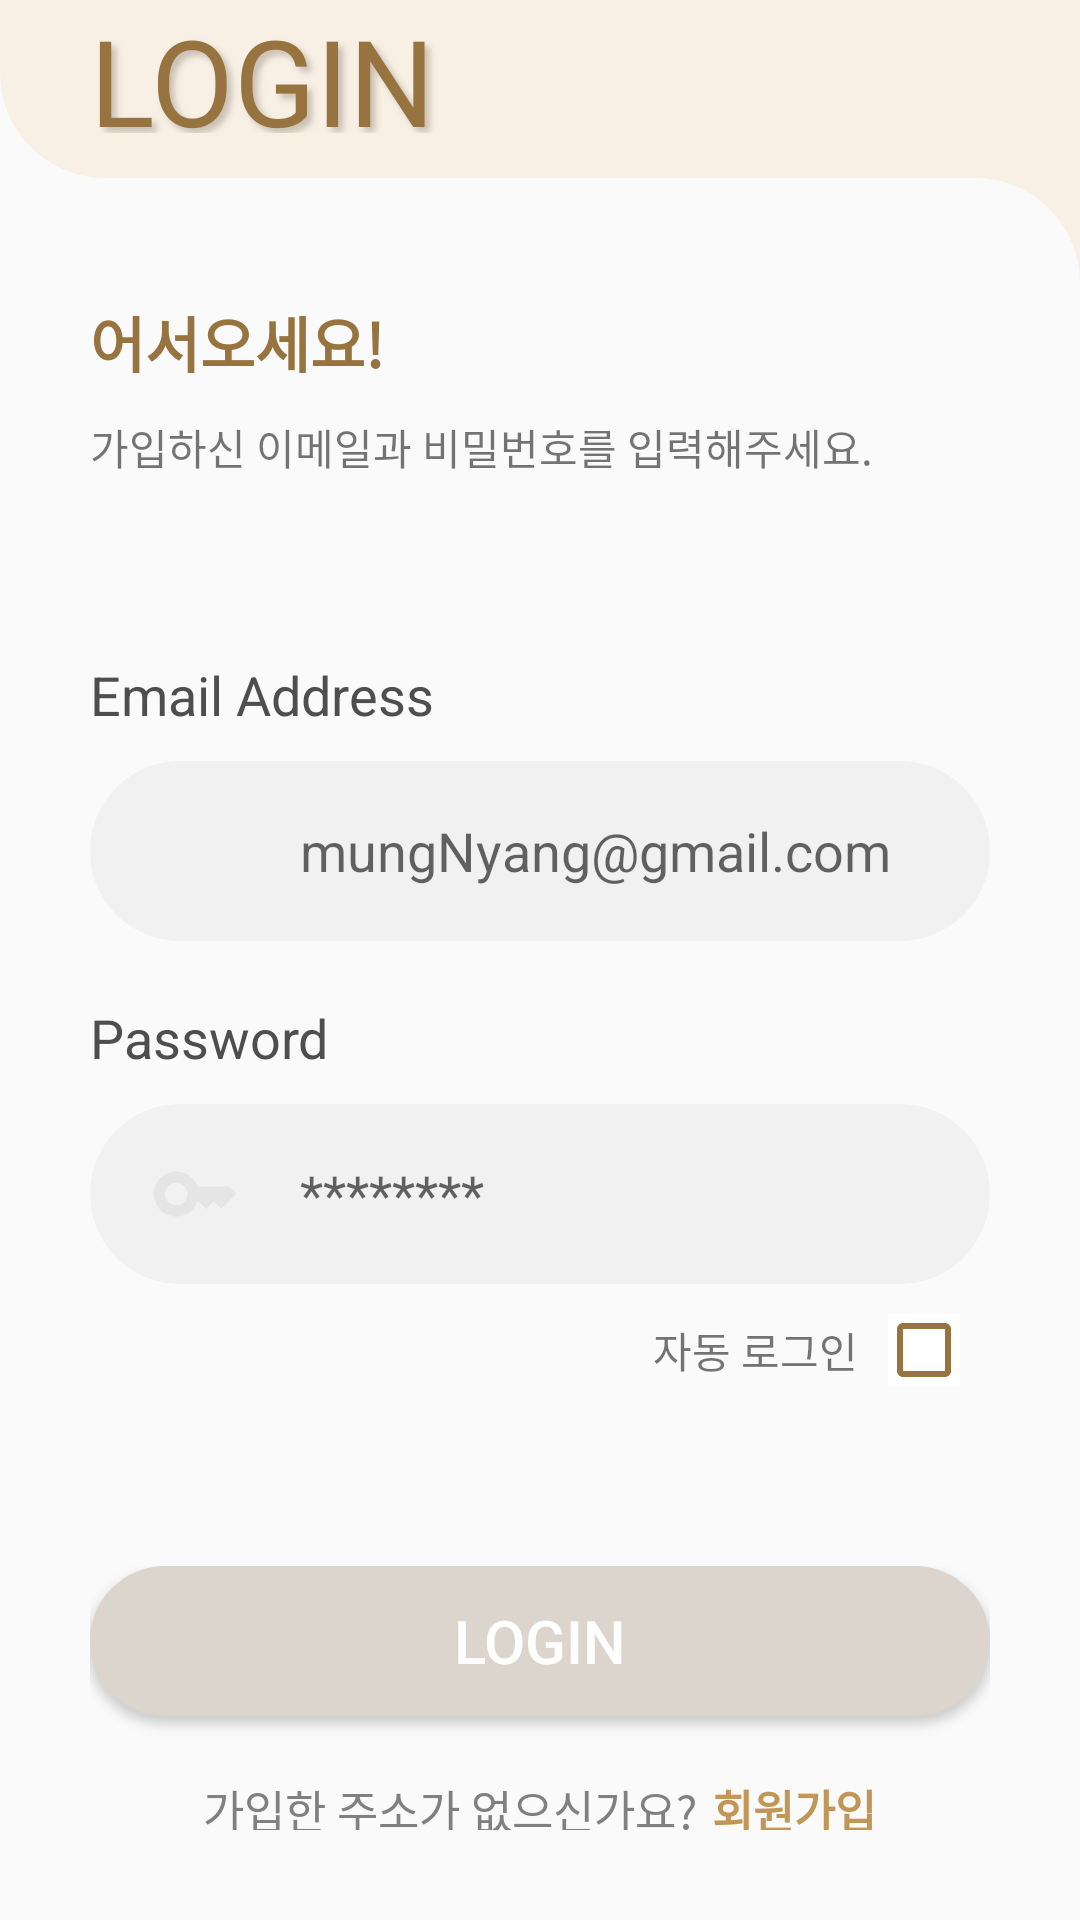

Icon click points for this 1080*1920 phone screenshot, format (x,y):
check box blank: (924,1350)
